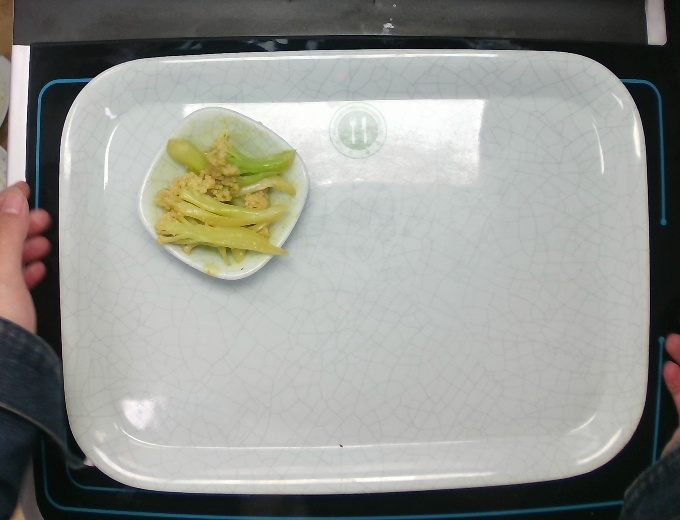JYsf-Si_Fang_Die: (132, 103, 315, 287)
